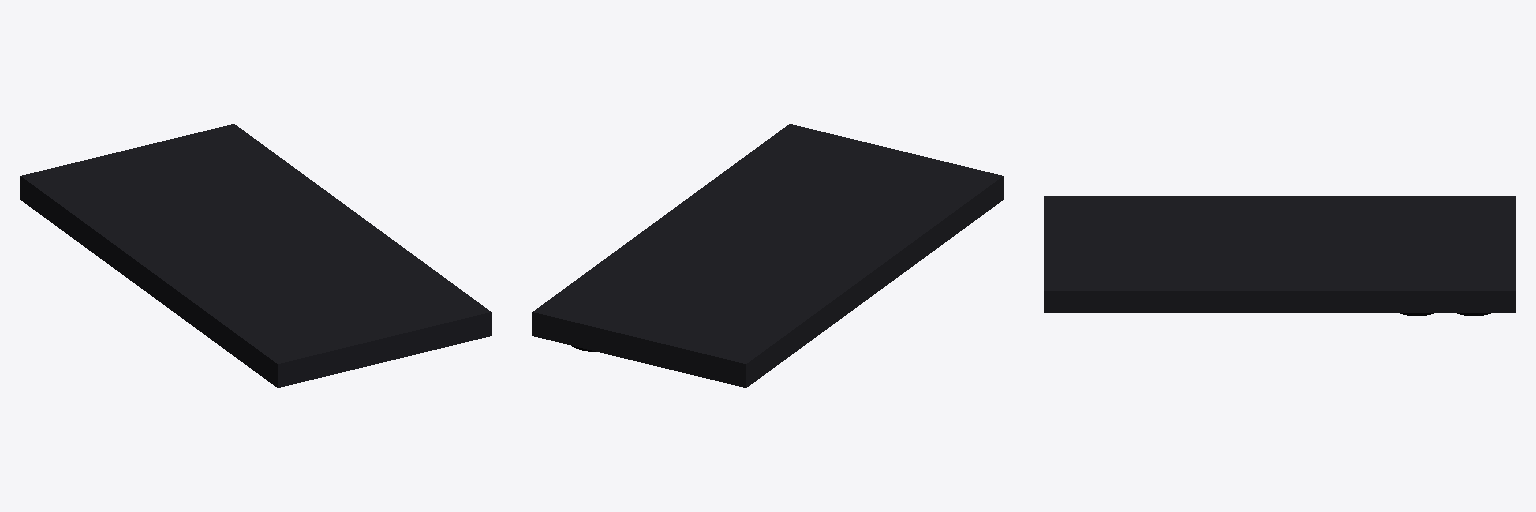
URDF robot description (iphone_15_pro_max):
<?xml version="1.0"?>
<!-- iPhone 15 Pro Max: generated by imuninn from Apple's dimensional drawings (iphone-frames dataset). Frames: device = display centre on the front glass (x right, y top, z out of the screen); cam_*_optical = OpenCV axes. Geometry and mass are approximate. -->
<robot name="iphone_15_pro_max">
  <material name="iphone_body">
    <color rgba="0.15 0.15 0.17 1" />
  </material>
  <material name="iphone_lens">
    <color rgba="0.05 0.05 0.06 1" />
  </material>
  <link name="device">
    <visual name="body">
      <origin xyz="7.10542736e-18 0 -0.004125" rpy="0 0 0" />
      <geometry>
        <box size="0.07673 0.15986 0.00825" />
      </geometry>
      <material name="iphone_body" />
    </visual>
    <collision name="body">
      <origin xyz="7.10542736e-18 0 -0.004125" rpy="0 0 0" />
      <geometry>
        <box size="0.07673 0.15986 0.00825" />
      </geometry>
    </collision>
    <visual name="lens_ultra_wide">
      <origin xyz="0.024195 0.06576 -0.010285" rpy="0 0 0" />
      <geometry>
        <cylinder radius="0.0081" length="0.00407" />
      </geometry>
      <material name="iphone_lens" />
    </visual>
    <visual name="lens_main">
      <origin xyz="0.024195 0.04652 -0.010285" rpy="0 0 0" />
      <geometry>
        <cylinder radius="0.0081" length="0.00407" />
      </geometry>
      <material name="iphone_lens" />
    </visual>
    <visual name="lens_telephoto">
      <origin xyz="0.006205 0.05614 -0.010285" rpy="0 0 0" />
      <geometry>
        <cylinder radius="0.0081" length="0.00407" />
      </geometry>
      <material name="iphone_lens" />
    </visual>
    <inertial>
      <origin xyz="7.10542736e-18 0 -0.004125" rpy="0 0 0" />
      <mass value="0.233" />
      <inertia ixx="0.000497519" ixy="0" ixz="0" iyy="0.000115637" iyz="0" izz="0.000610513" />
    </inertial>
  </link>
  <link name="magsafe" />
  <joint name="device_to_magsafe" type="fixed">
    <parent link="device" />
    <child link="magsafe" />
    <origin xyz="-5e-06 0 -0.00825" rpy="3.14159265 0 3.14159265" />
  </joint>
  <link name="cam_ultra_wide_optical" />
  <joint name="device_to_cam_ultra_wide_optical" type="fixed">
    <parent link="device" />
    <child link="cam_ultra_wide_optical" />
    <origin xyz="0.024195 0.06576 -0.01232" rpy="3.14159265 0 -1.57079633" />
  </joint>
  <link name="cam_main_optical" />
  <joint name="device_to_cam_main_optical" type="fixed">
    <parent link="device" />
    <child link="cam_main_optical" />
    <origin xyz="0.024195 0.04652 -0.01232" rpy="3.14159265 0 -1.57079633" />
  </joint>
  <link name="cam_telephoto_optical" />
  <joint name="device_to_cam_telephoto_optical" type="fixed">
    <parent link="device" />
    <child link="cam_telephoto_optical" />
    <origin xyz="0.006205 0.05614 -0.01232" rpy="3.14159265 0 -1.57079633" />
  </joint>
  <link name="cam_front_optical" />
  <joint name="device_to_cam_front_optical" type="fixed">
    <parent link="device" />
    <child link="cam_front_optical" />
    <origin xyz="0.007335 0.07226 0" rpy="0 0 1.57079633" />
  </joint>
  <link name="imu" />
  <joint name="device_to_imu" type="fixed">
    <parent link="device" />
    <child link="imu" />
    <origin xyz="0 0 0" rpy="0 0 0" />
  </joint>
</robot>

--- What the picture shows (computed from the rendered views, not written in the file) ---
3 views of the same robot in one strip: view 1: azimuth 30°, elevation 25°; view 2: azimuth 150°, elevation 25°; view 3: azimuth 270°, elevation 25° (orthographic).
Robot: iphone_15_pro_max — 7 links, 6 joints (6 fixed); root link device; default pose: all joints at 0.
Visible links, largest first — view 1: device; view 2: device; view 3: device.
Link boxes in pixels (x1=…): device: x1=20, y1=124, x2=491, y2=387; device: x1=532, y1=124, x2=1003, y2=387; device: x1=1044, y1=196, x2=1515, y2=315.
Size in the robot's own frame: 0.0767 by 0.1599 by 0.0123 metres.
Geometry: primitives only (box / cylinder / sphere), no mesh files.
